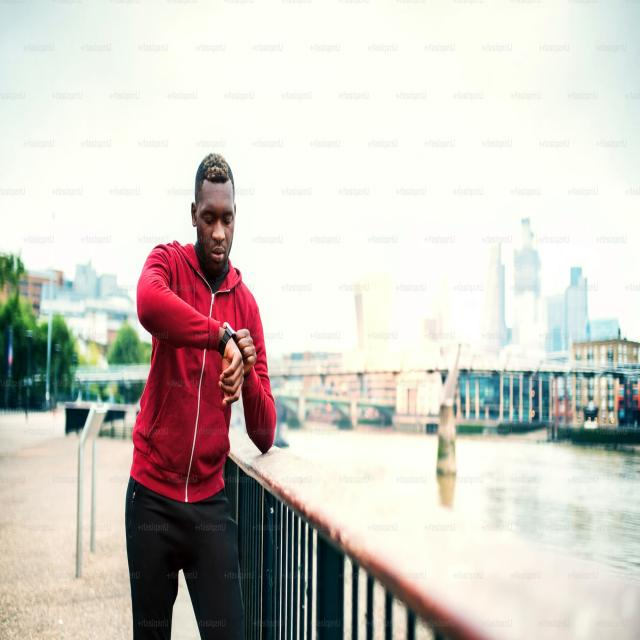adult: (125, 150, 277, 640)
